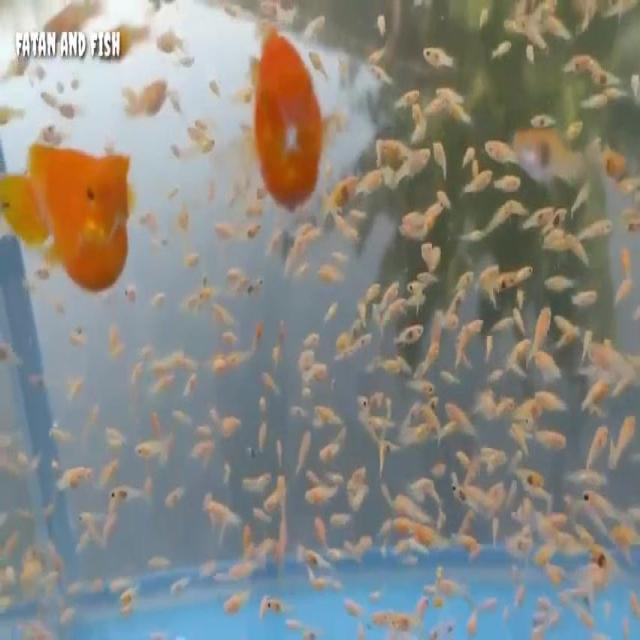PlatyFish: (0, 131, 136, 326)
